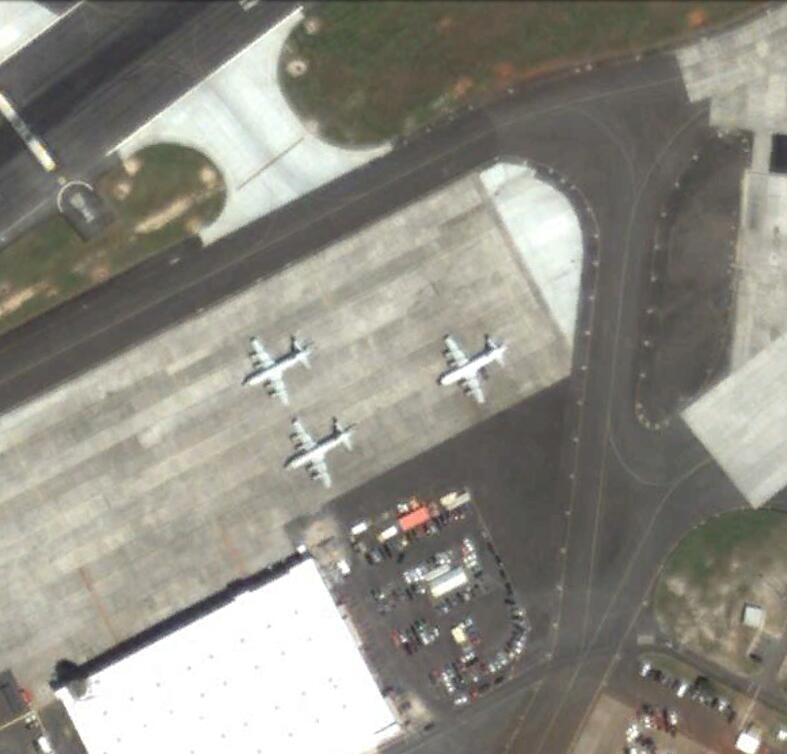A9: (438, 333, 510, 407), (242, 335, 315, 406), (286, 418, 356, 489)
